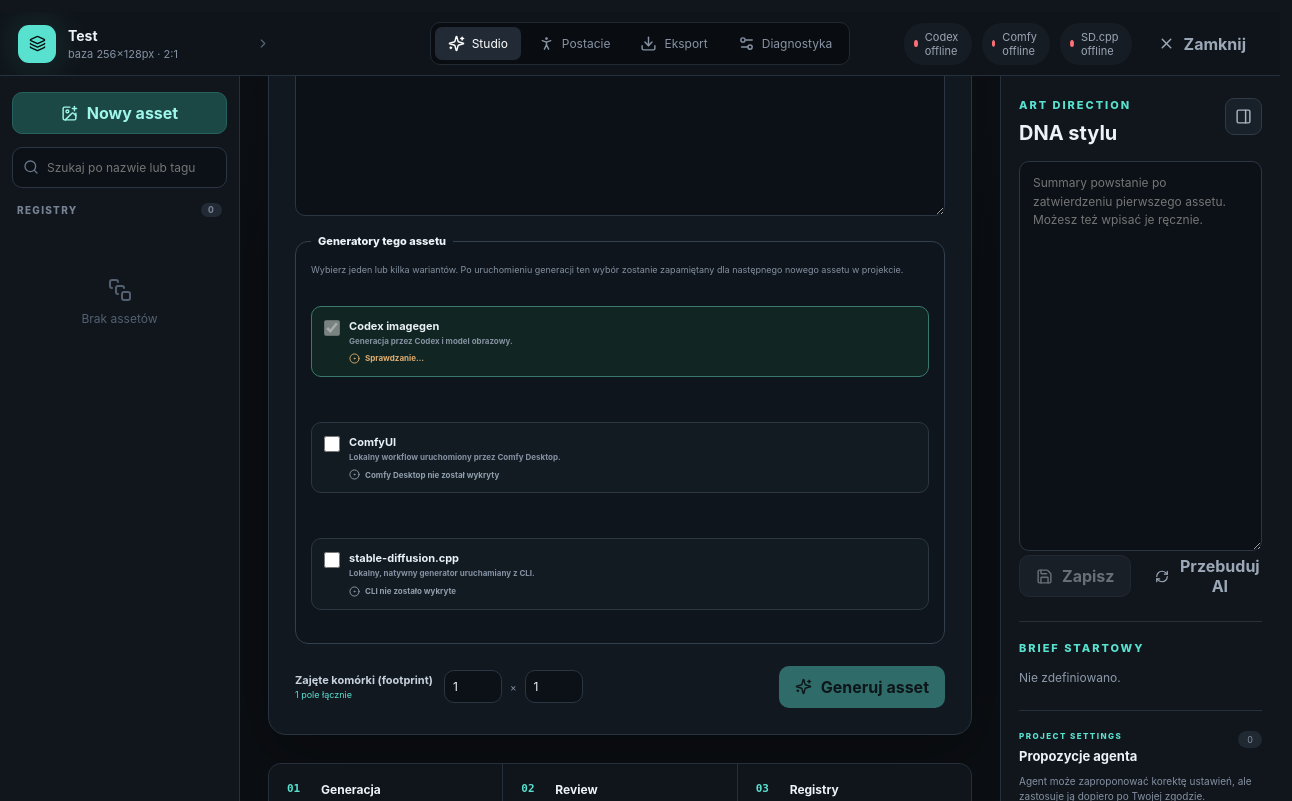
pozwala wybrać generatory nowego assetu i odtwarza zapisany wybór w sekcji postaci
The width and height of the screenshot is (1292, 801).
(page scrolled)
Expected: the checkbox labelled "Codex imagegen" is checked, [324,320,340,336]
Expected: the checkbox labelled "Codex imagegen" is disabled, [324,320,340,336]
Click the checkbox labelled "ComfyUI" at (332, 444), box [324,436,340,452]
(page scrolled)
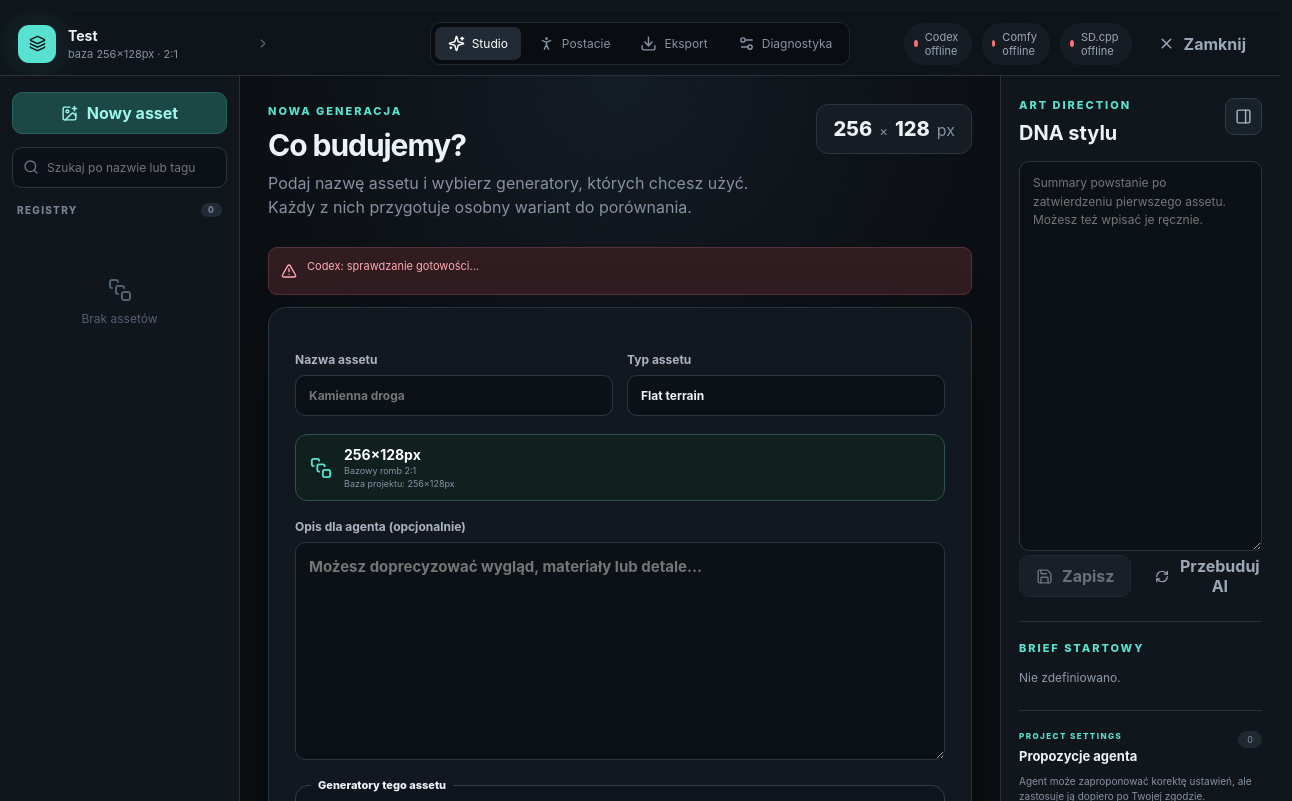
Type "Kamienny mur" into the field labelled "Nazwa assetu" at (454, 396), box [295,375,613,416]
(page scrolled)
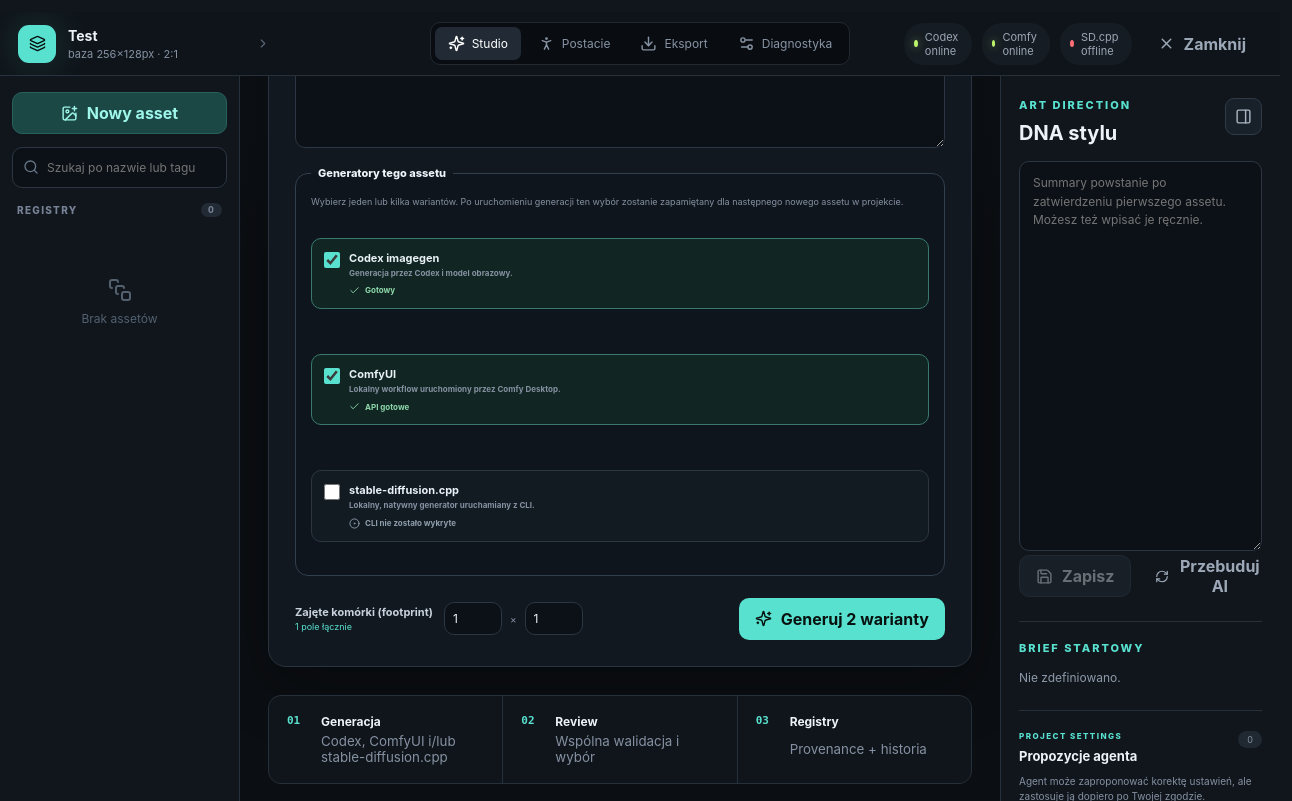
Now the button "Generuj 2 warianty" is enabled
Click the button "Generuj 2 warianty" at (842, 619), box [739,598,945,640]
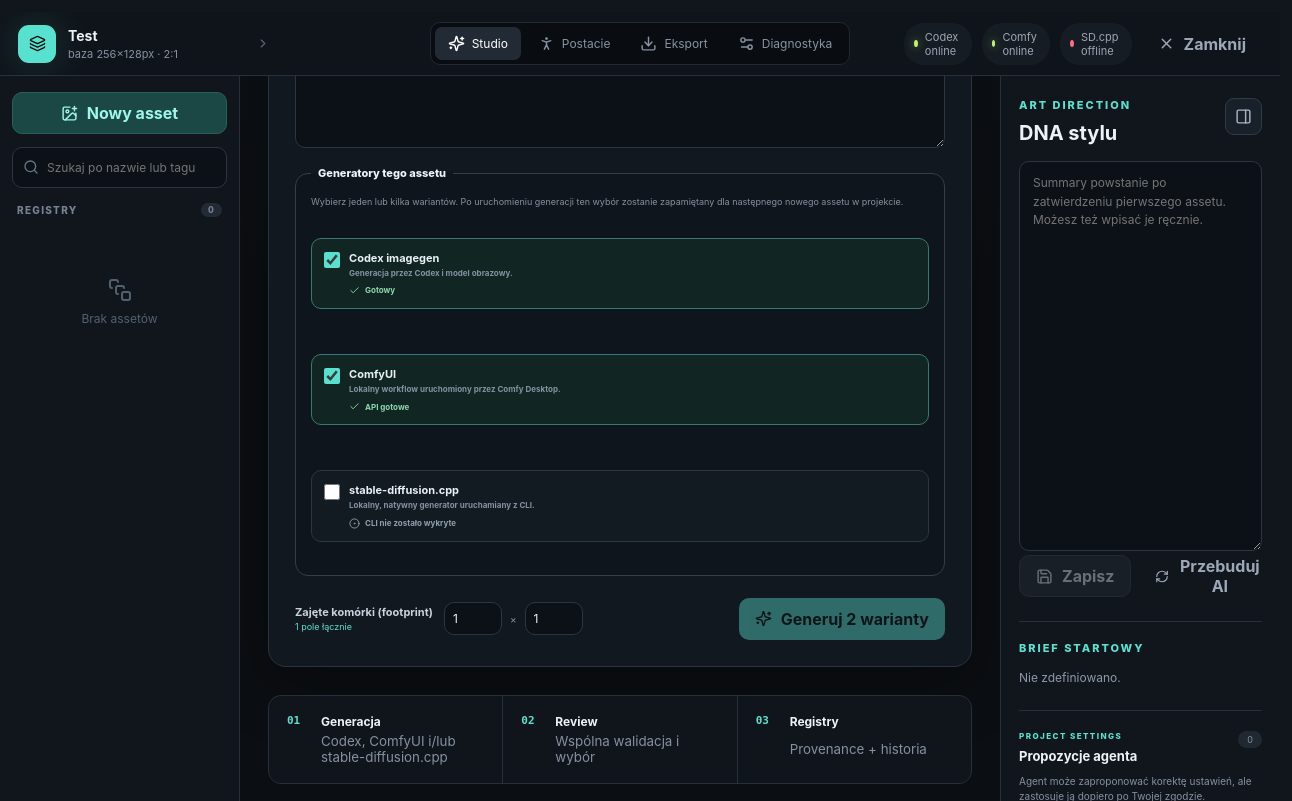
Click the button "Postacie" at (574, 44), box [525,27,623,60]
(page scrolled)
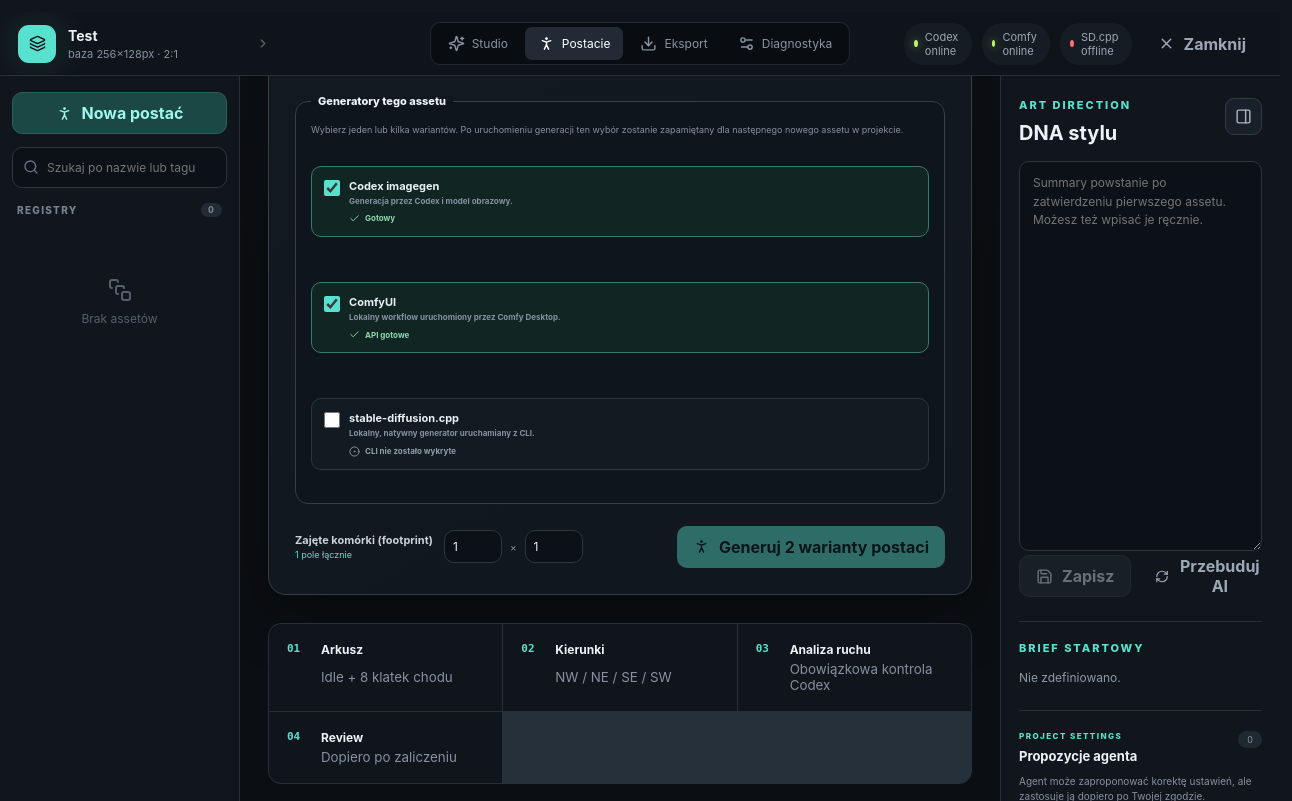
Now the checkbox labelled "Codex imagegen" is checked, box [324,180,340,196]
Now the checkbox labelled "ComfyUI" is checked, box [324,296,340,312]
Now the button "Generuj 2 warianty postaci" is shown, box [677,526,945,568]
